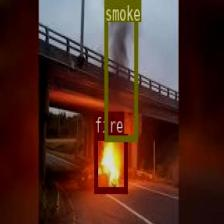fire: (93, 133, 126, 192)
smoke: (104, 0, 138, 140)
